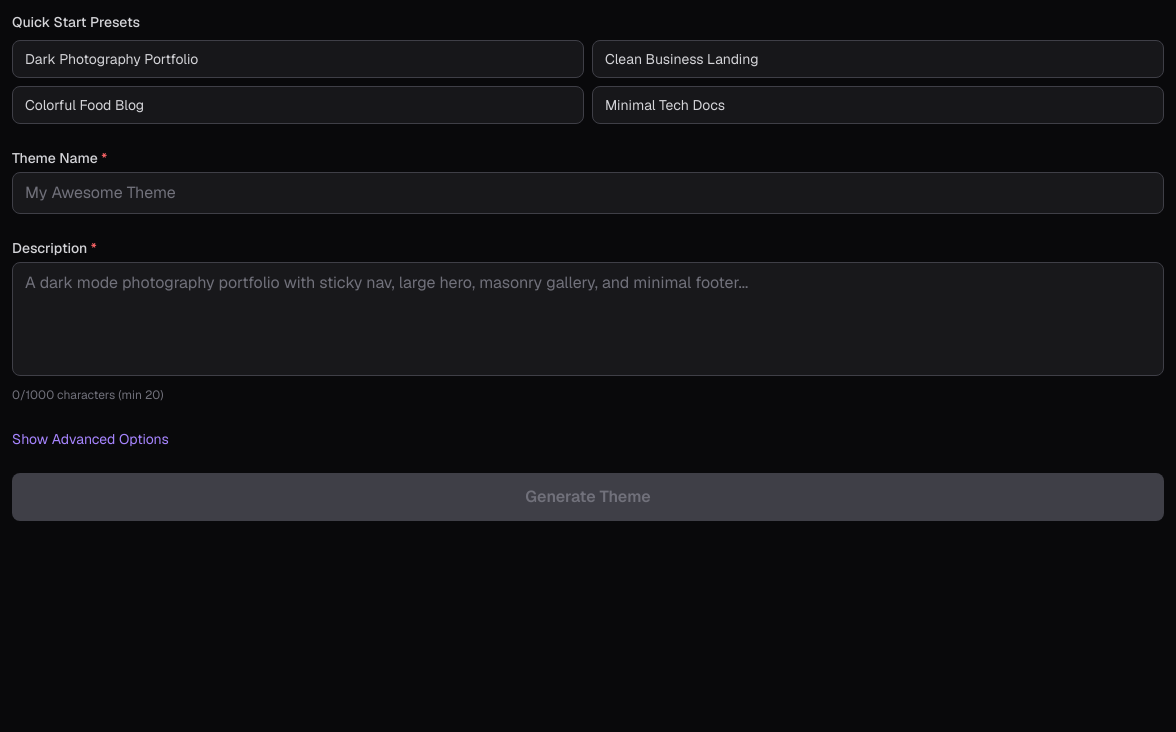
Scenario: ThemeForm › shows advanced options when toggle is clicked
Click the button "Show Advanced Options": (90, 439) [12,429,169,449]
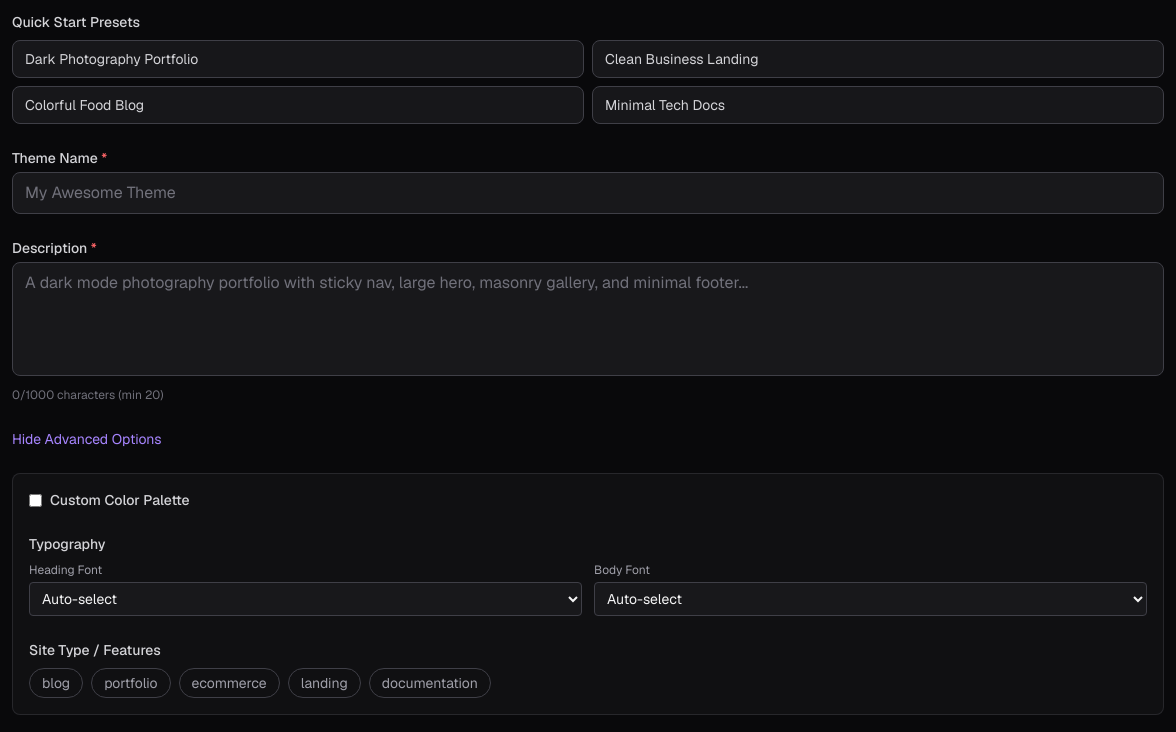
Result: the text "Typography" is shown at [29,535,106,553]
Result: the text "Site Type / Features" is shown at [29,641,161,659]
